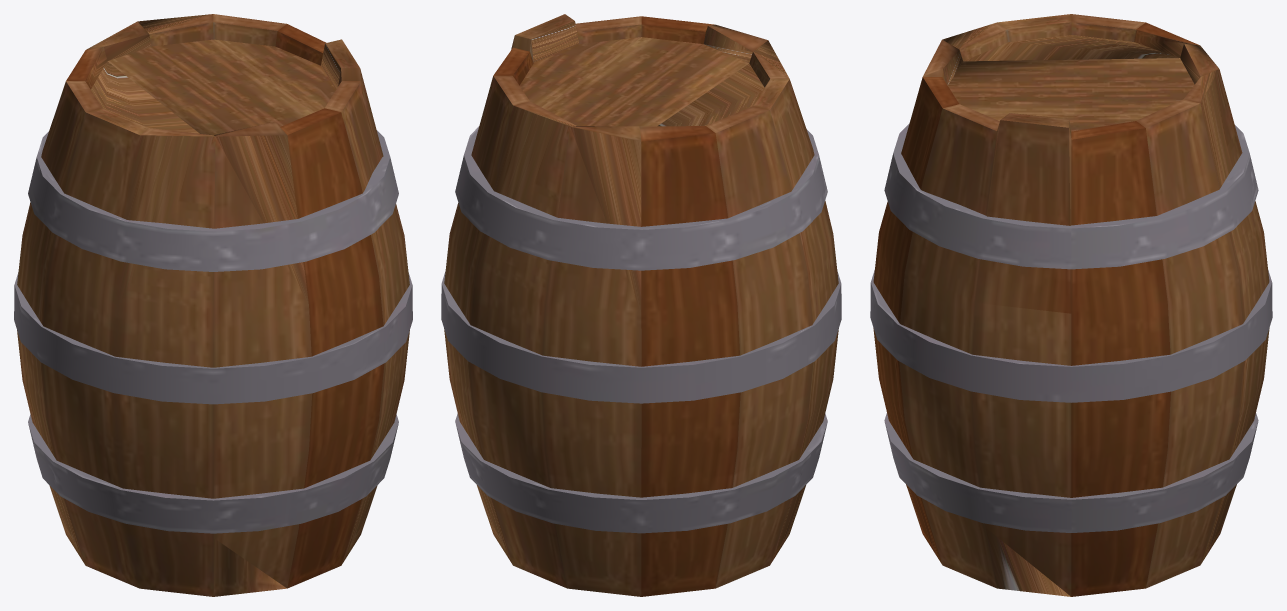
The model's file is Barrel.gltf.
3 views of the same model, side by side, from view 1: azimuth 30°, elevation 25°; view 2: azimuth 150°, elevation 25°; view 3: azimuth 270°, elevation 25° (orthographic).
Visible parts, largest first — view 1: Barrel; view 2: Barrel; view 3: Barrel.
Boxes of the visible parts, x1,y1,x2,y2 form: Barrel: [14, 14, 412, 596]; Barrel: [441, 14, 841, 596]; Barrel: [870, 14, 1272, 596].
Size of the model in its own units: 0.698 by 0.898 by 0.698.
2 materials, 2 textured.
